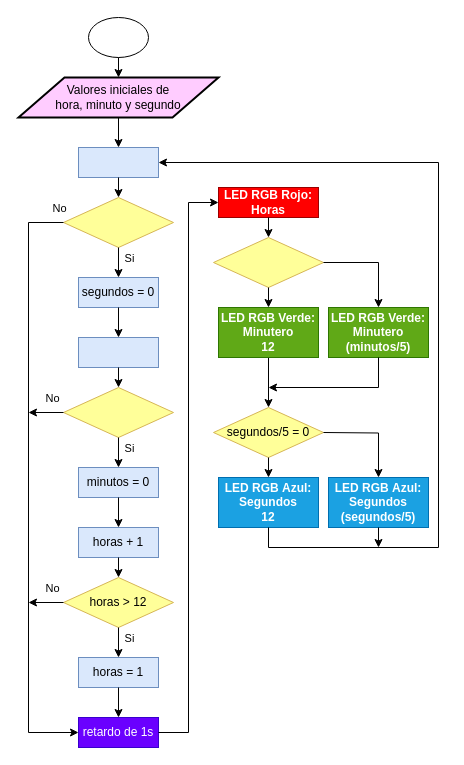
This 464x765 diagram has some shape labels left out. The shapes that lost their labels are listed below. From the top down, each one's centre as x and y in pixels, then its label:
the point at 118,37: Inicio
the point at 118,162: segundos + 1
the point at 118,222: segundos > 59
the point at 268,262: minutos/5 = 0
the point at 118,352: minutos + 1
the point at 118,412: minutos > 59
